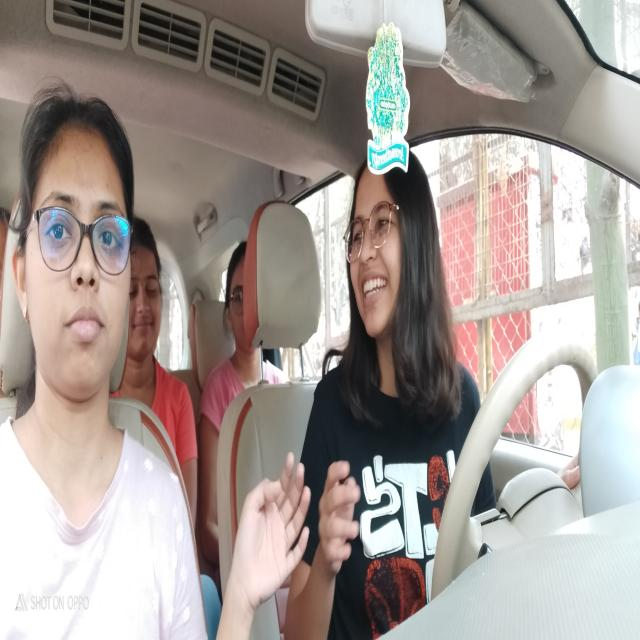LeftRight: (344, 149, 431, 349)
person: (12, 90, 136, 409), (130, 212, 166, 367), (223, 236, 259, 360)
talking: (358, 268, 392, 309)
